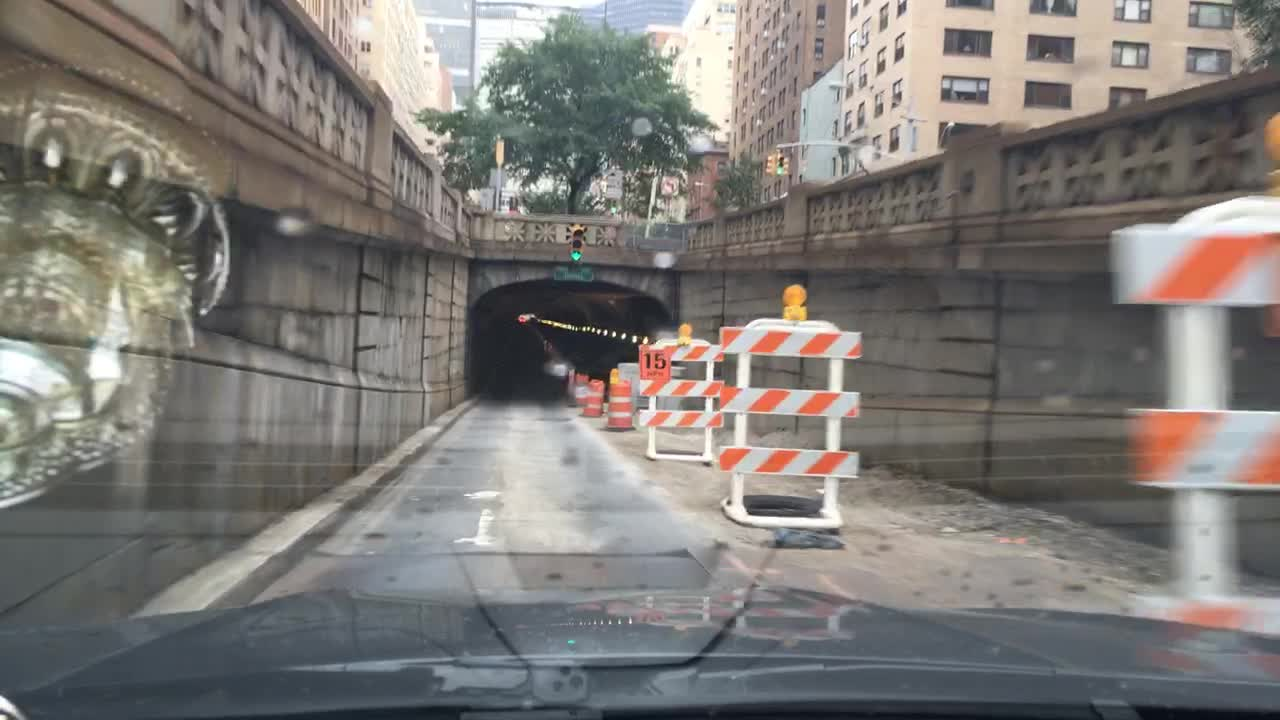traffic light: (566, 224, 585, 261), (763, 154, 775, 177), (775, 152, 785, 179), (783, 154, 792, 175)
traffic sign: (639, 343, 668, 381), (494, 135, 508, 163)
